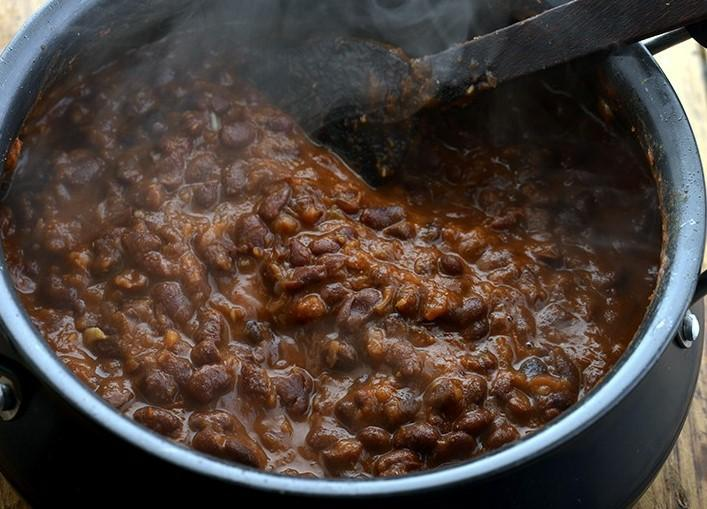RajmaCurry: (0, 31, 662, 477)
